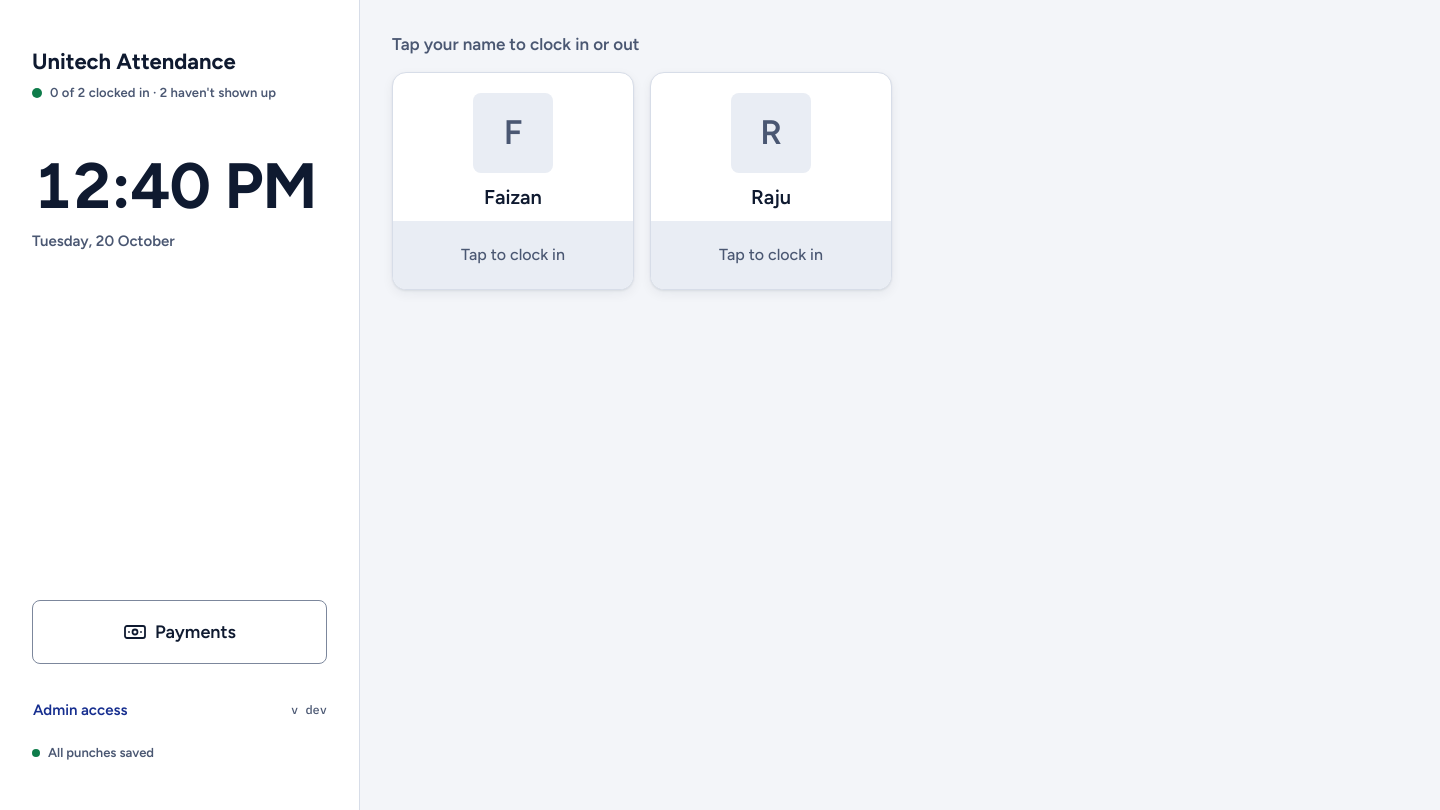
Test: Kiosk · payments month and add › shows "—" and the reason when the month cannot be read, so nobody logs it twice
Click the button "Payments" at (180, 632), box 32,600 -> 327,664
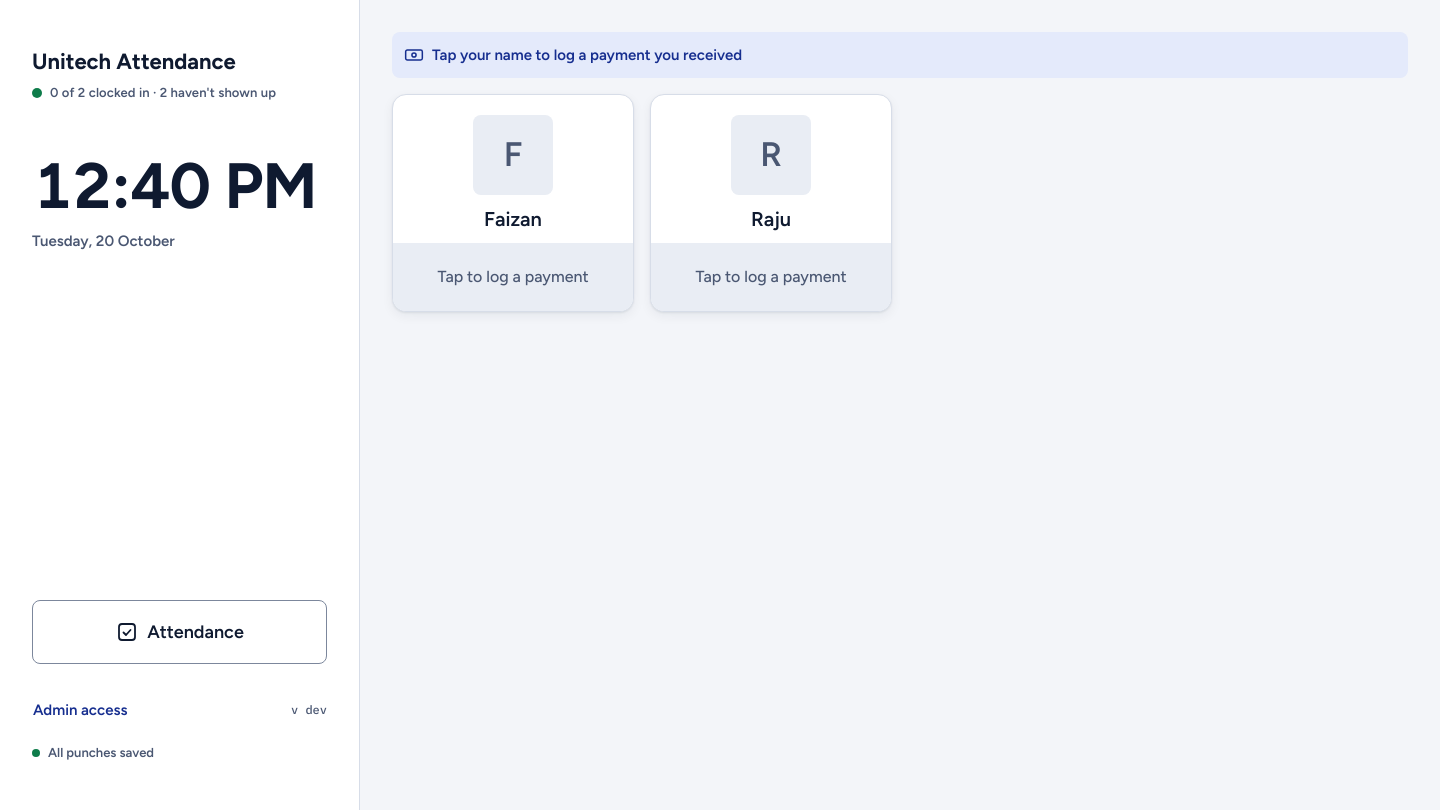
Click the button "R Raju Tap to log a payment" at (771, 203), box 650,94 -> 892,312
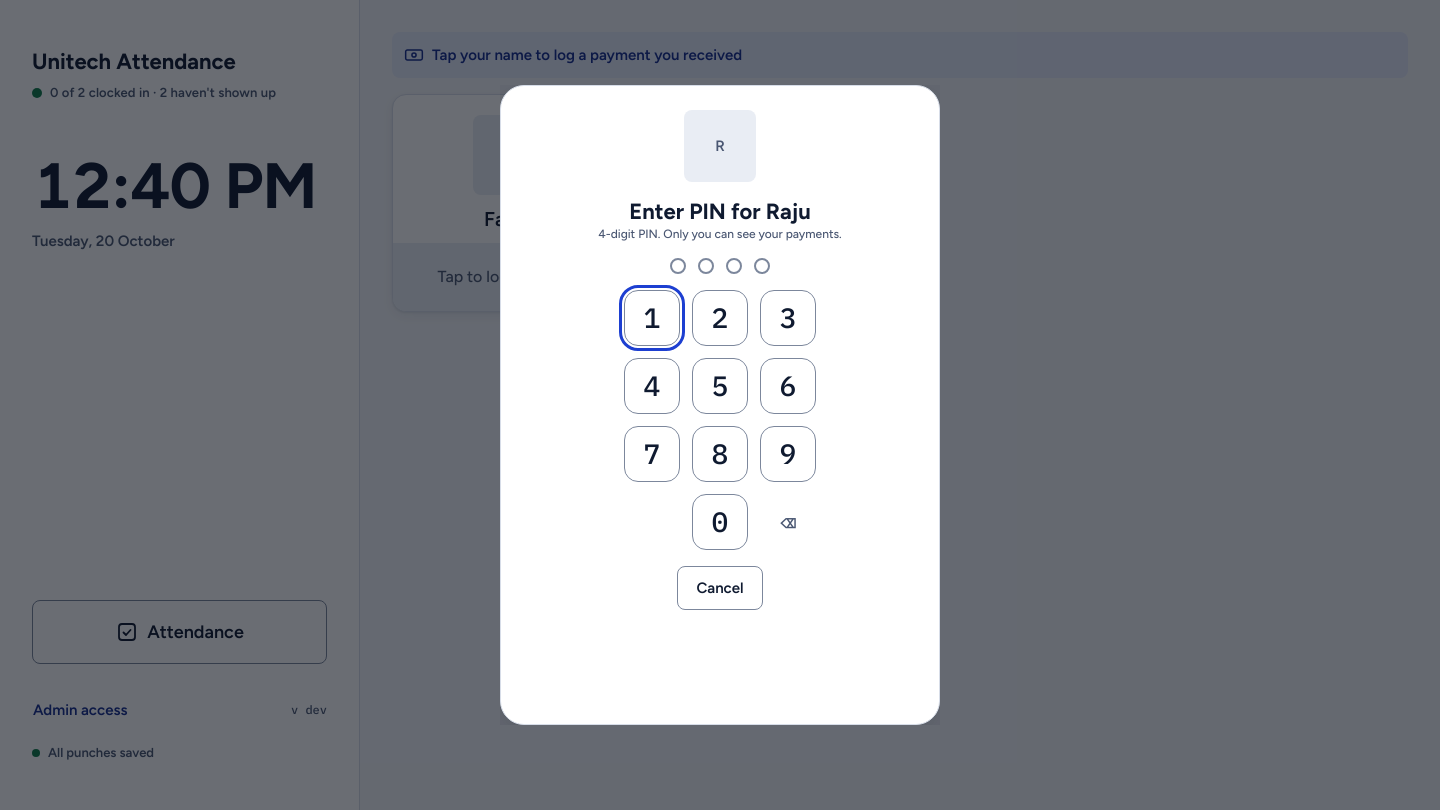
expect the heading "Enter PIN for Raju" is shown: met, box 629,198 -> 811,225
Click the button "4" at (652, 386), box 624,358 -> 680,414
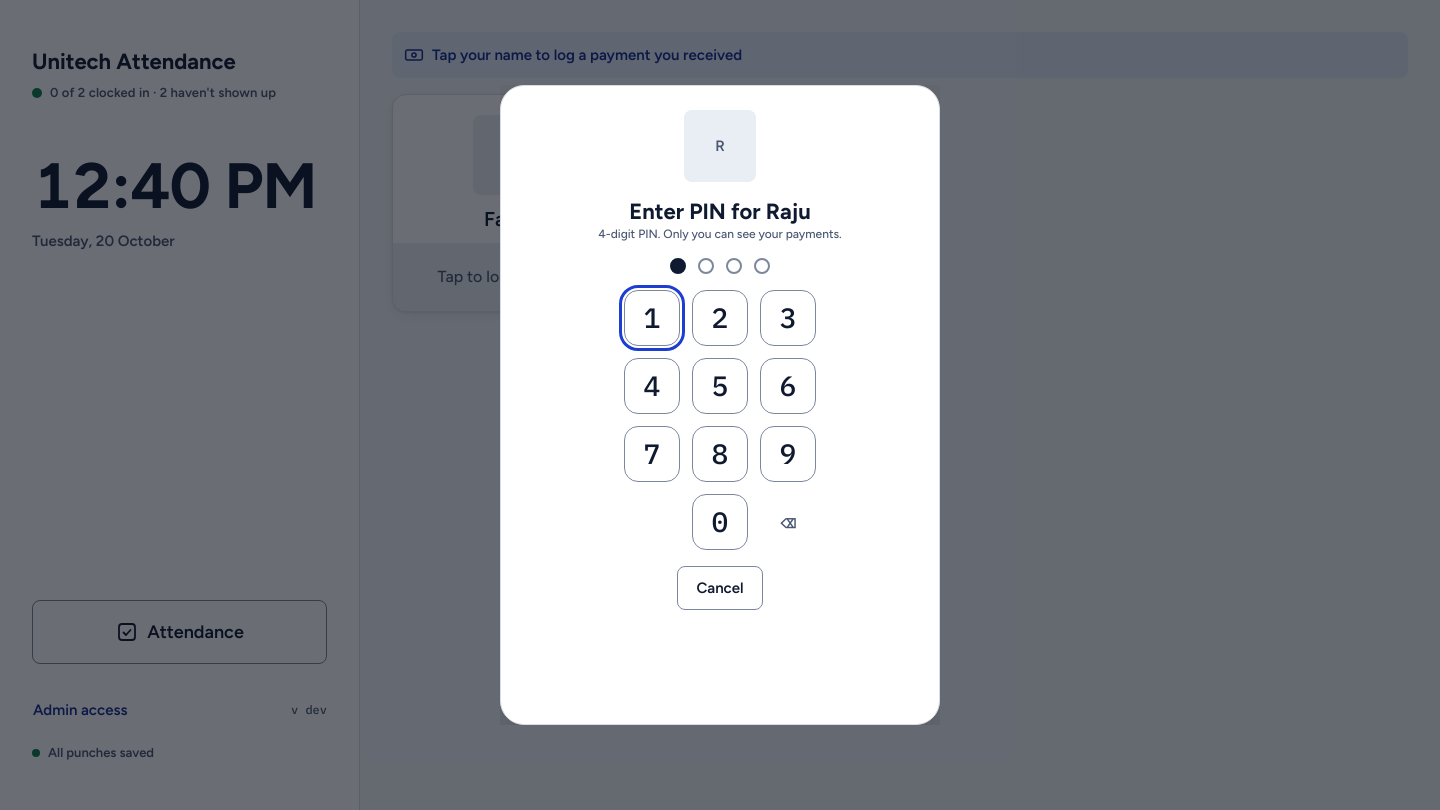
Click the button "8" at (720, 454), box 692,426 -> 748,482
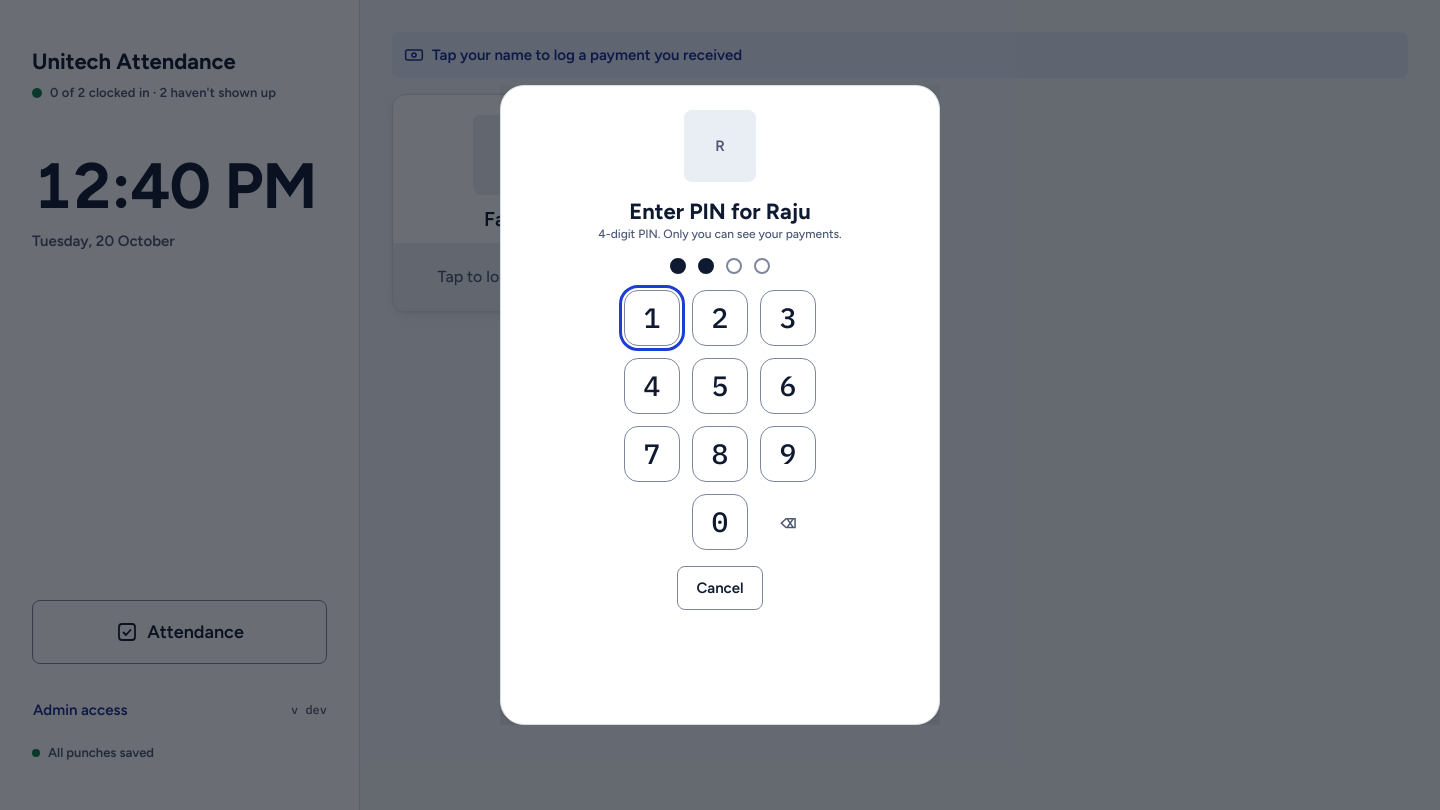
Click the button "2" at (720, 318), box 692,290 -> 748,346
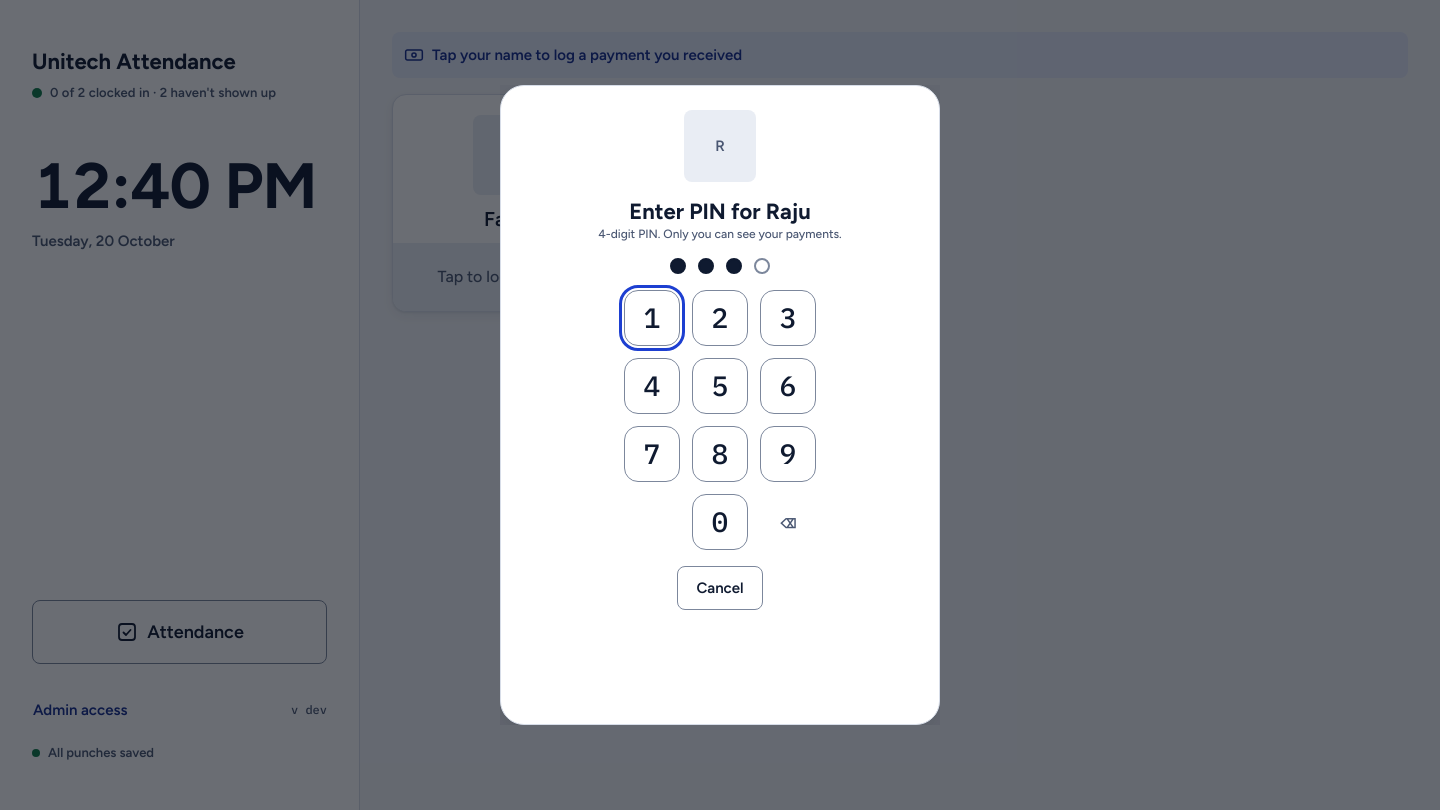
Click the button "1" at (652, 318), box 624,290 -> 680,346
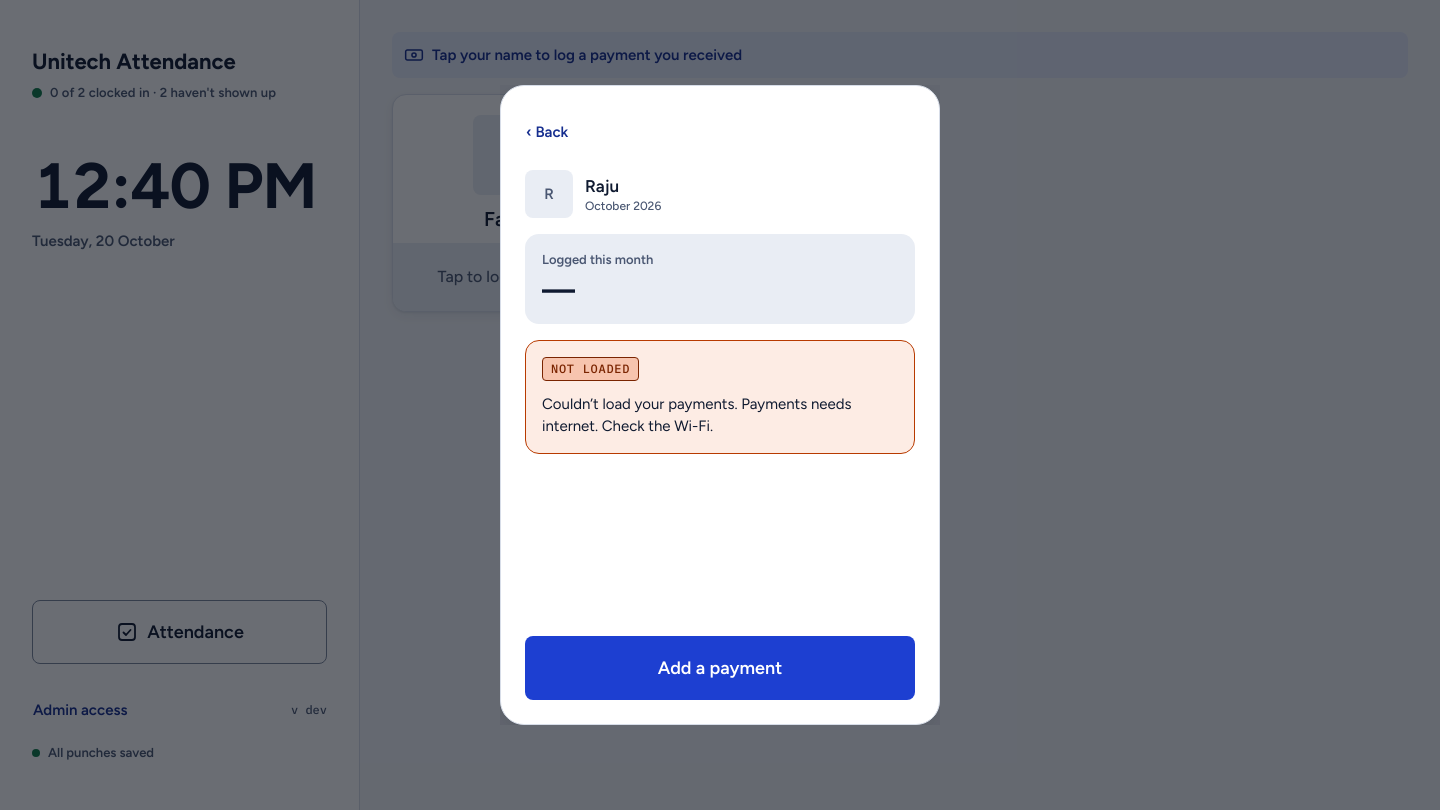
expect the text "Couldn’t load your payments. Payments needs internet. Check the Wi-Fi." is shown: met, box 542,393 -> 898,437
